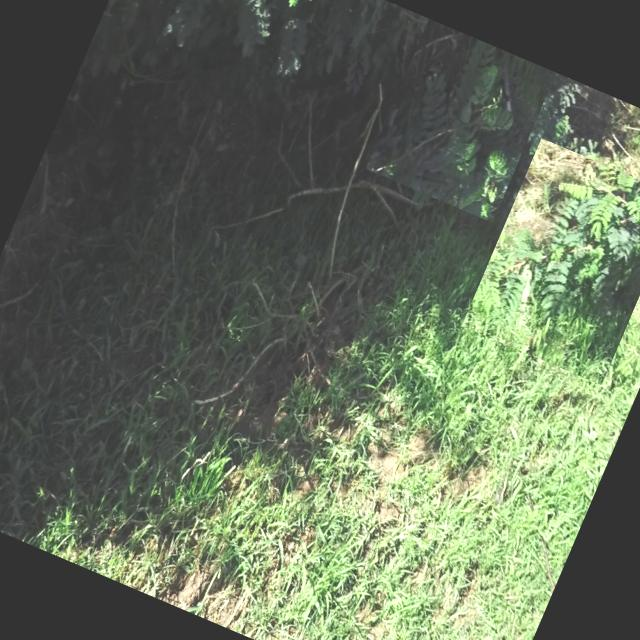Mysore-Thorn-Weed: (461, 138, 640, 385), (364, 19, 556, 222), (264, 0, 330, 23)
